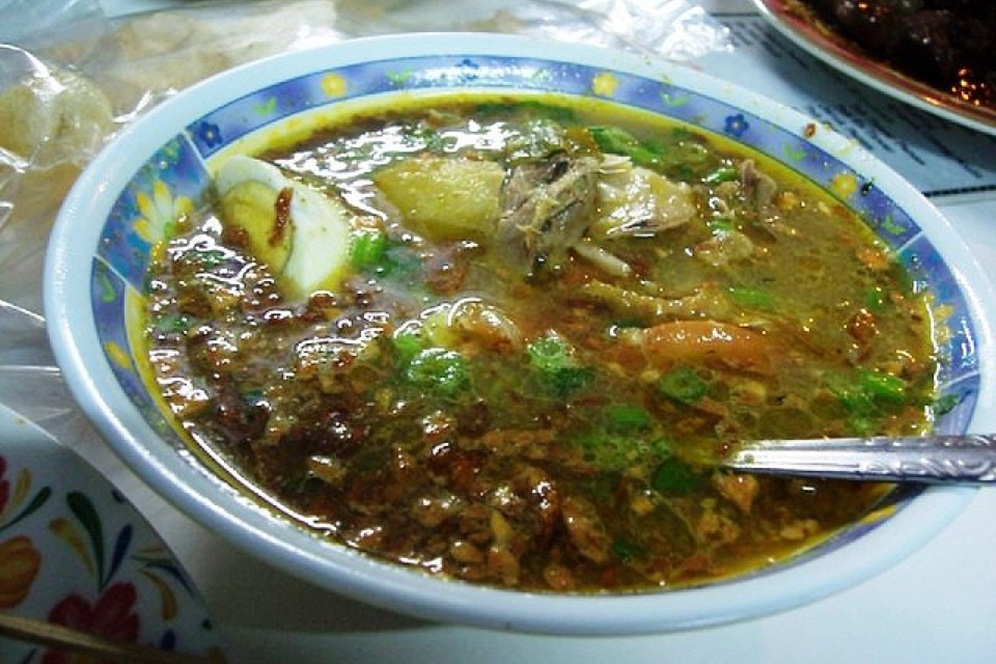soto: (69, 19, 996, 602)
